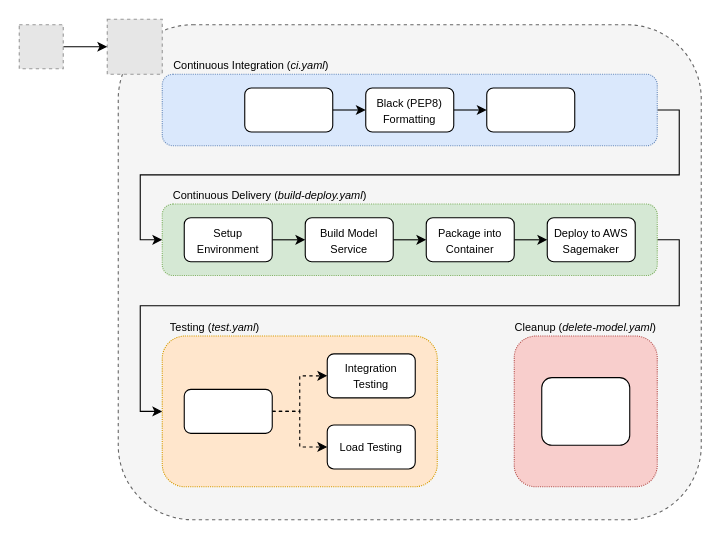
Image size: 721x539. Some labels were removed from this diagram. Grey dashed boxes stand in for pictures. Here are the shapes that lost their labels. From the top down, the box of each, then its label:
(244, 87, 333, 132): Python Linter
(486, 87, 575, 132): Model Unit Testing
(183, 388, 272, 433): Setup Test Environment
(541, 377, 630, 445): Remove AWS Provisioned Services
